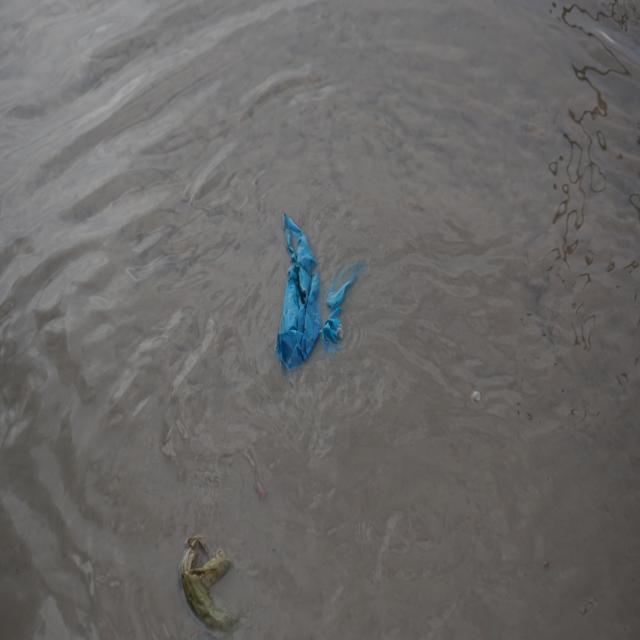Kantong Plastik: (277, 211, 365, 375)
